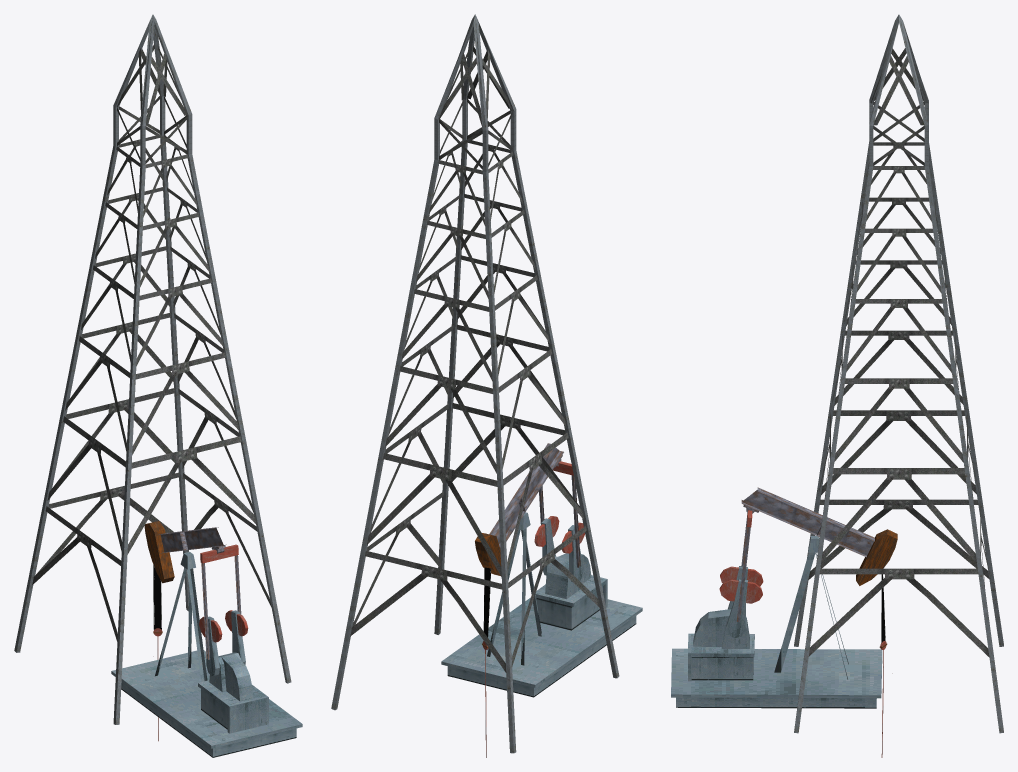
File: derrick01.obj
3 views of the same model, side by side, from view 1: azimuth 30°, elevation 25°; view 2: azimuth 150°, elevation 25°; view 3: azimuth 270°, elevation 25° (orthographic). The views are drawn at different scales.
Visible parts, largest first — view 1: derrick01, derrickbit01, derrickbit04, derrickbit03, derrickbit02; view 2: derrick01, derrickbit01, derrickbit04, derrickbit03, derrickbit02; view 3: derrick01, derrickbit01, derrickbit04, derrickbit03.
Boxes of the visible parts, <box> form: derrick01: <box>14,14,302,757</box>; derrickbit01: <box>144,521,226,583</box>; derrickbit04: <box>199,610,248,676</box>; derrickbit03: <box>200,544,242,659</box>; derrickbit02: <box>153,565,162,741</box>; derrick01: <box>331,14,642,753</box>; derrickbit01: <box>475,443,563,575</box>; derrickbit04: <box>534,516,584,581</box>; derrickbit03: <box>539,461,580,567</box>; derrickbit02: <box>482,567,491,757</box>; derrick01: <box>671,14,1003,733</box>; derrickbit01: <box>741,487,897,585</box>; derrickbit04: <box>719,566,763,638</box>; derrickbit03: <box>736,510,752,622</box>.
Size of the model in its own units: 8.9 by 34.88 by 14.13.
16 materials, 16 textured.
